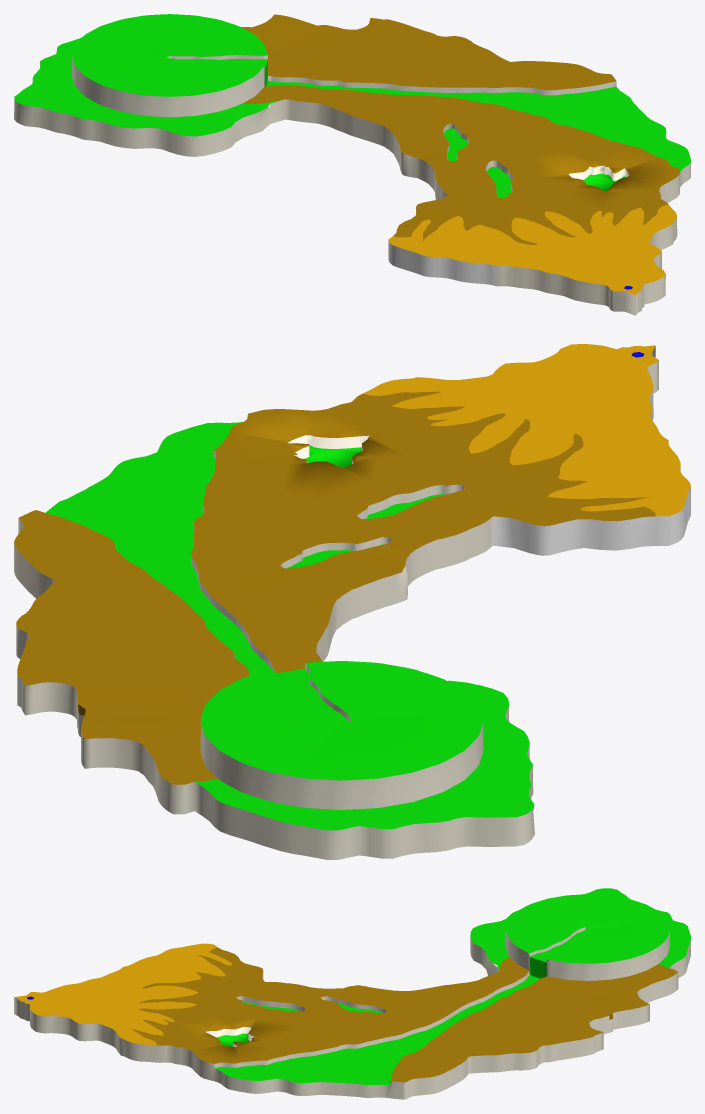
The model's file is Level5_v2.fbx.
3 views of the same model, one above another, from view 1: azimuth 30°, elevation 25°; view 2: azimuth 150°, elevation 25°; view 3: azimuth 270°, elevation 25° (orthographic). The views are drawn at different scales.
Visible parts, largest first — view 1: Retopo_SketchUp.002; view 2: Retopo_SketchUp.002; view 3: Retopo_SketchUp.002.
Boxes of the visible parts, x1=… form: Retopo_SketchUp.002: x1=14, y1=14, x2=690, y2=315; Retopo_SketchUp.002: x1=14, y1=344, x2=690, y2=859; Retopo_SketchUp.002: x1=14, y1=888, x2=690, y2=1099.
Size of the model in its own units: 390 by 32 by 573.
